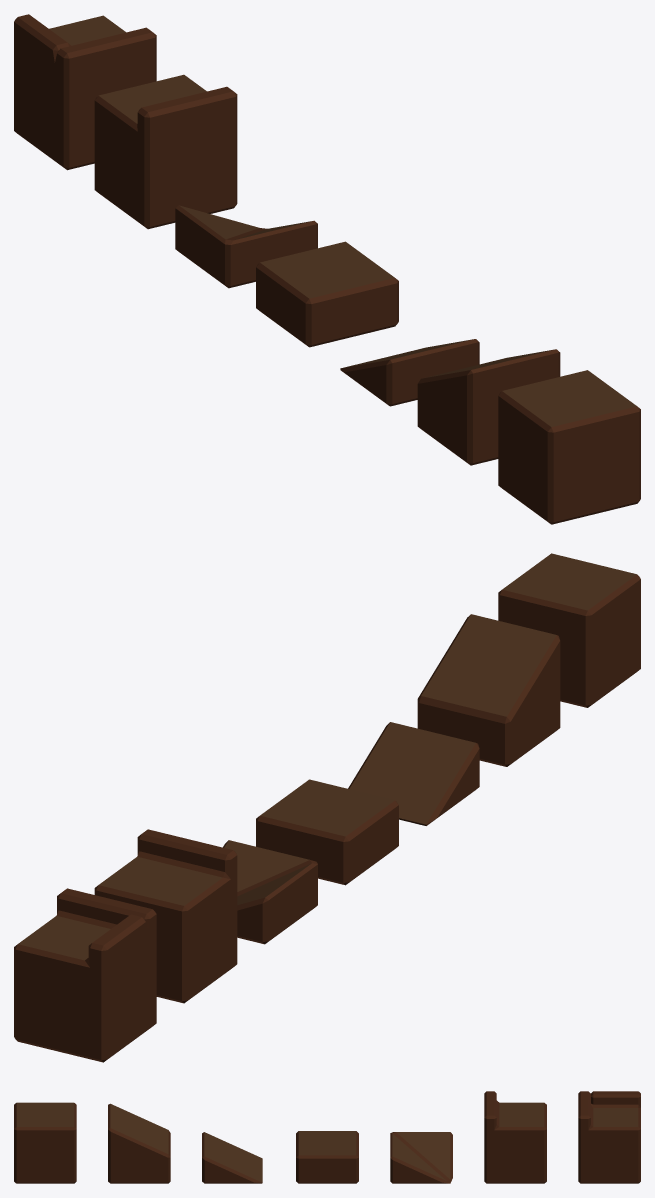
The model's file is destroyable-blocks.glb.
The picture shows the model from 3 angles, top to bottom: view 1: azimuth 30°, elevation 25°; view 2: azimuth 150°, elevation 25°; view 3: azimuth 270°, elevation 25°; orthographic projection. The views are drawn at different scales.
Visible parts, largest first — view 1: BlockWall, Block, BlockWallCorner, BlockShort, RampTop, RampLowerCorner, RampBottom; view 2: BlockWallCorner, RampTop, BlockWall, Block, BlockShort, RampBottom, RampLowerCorner; view 3: BlockWallCorner, BlockWall, Block, RampTop, BlockShort, RampLowerCorner, RampBottom.
Boxes of the visible parts, box(x1,y1,x2,y2) form: BlockWall: box(94, 74, 237, 229); Block: box(498, 370, 640, 524); BlockWallCorner: box(14, 14, 156, 170); BlockShort: box(256, 241, 398, 347); RampTop: box(417, 349, 560, 465); RampLowerCorner: box(175, 205, 317, 288); RampBottom: box(340, 339, 479, 406); BlockWallCorner: box(14, 888, 156, 1062); RampTop: box(417, 614, 560, 766); BlockWall: box(94, 829, 237, 1003); Block: box(498, 553, 640, 707); BlockShort: box(256, 779, 398, 885); RampBottom: box(348, 722, 479, 825); RampLowerCorner: box(223, 840, 317, 944); BlockWallCorner: box(578, 1091, 640, 1183); BlockWall: box(484, 1091, 546, 1183); Block: box(14, 1102, 76, 1183); RampTop: box(108, 1103, 170, 1183); BlockShort: box(296, 1131, 358, 1183); RampLowerCorner: box(390, 1132, 452, 1183); RampBottom: box(202, 1132, 262, 1183).
Size of what is drawn, in the model's own units: 2 by 2.4 by 20.
